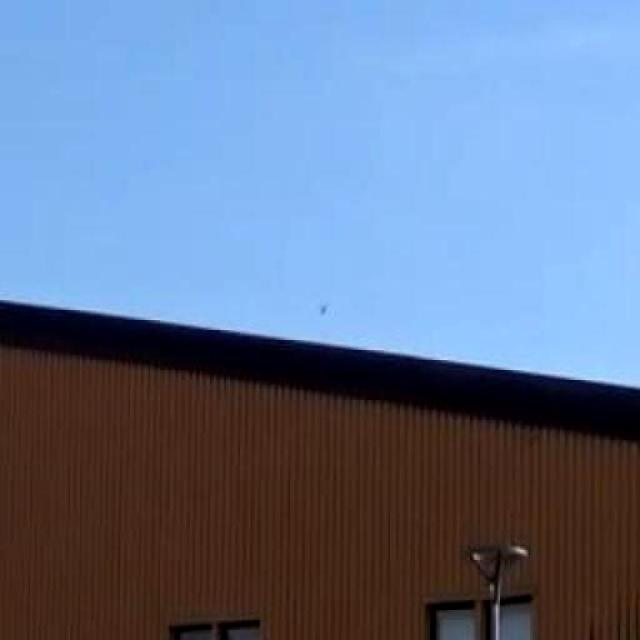drone: (304, 279, 346, 329)
